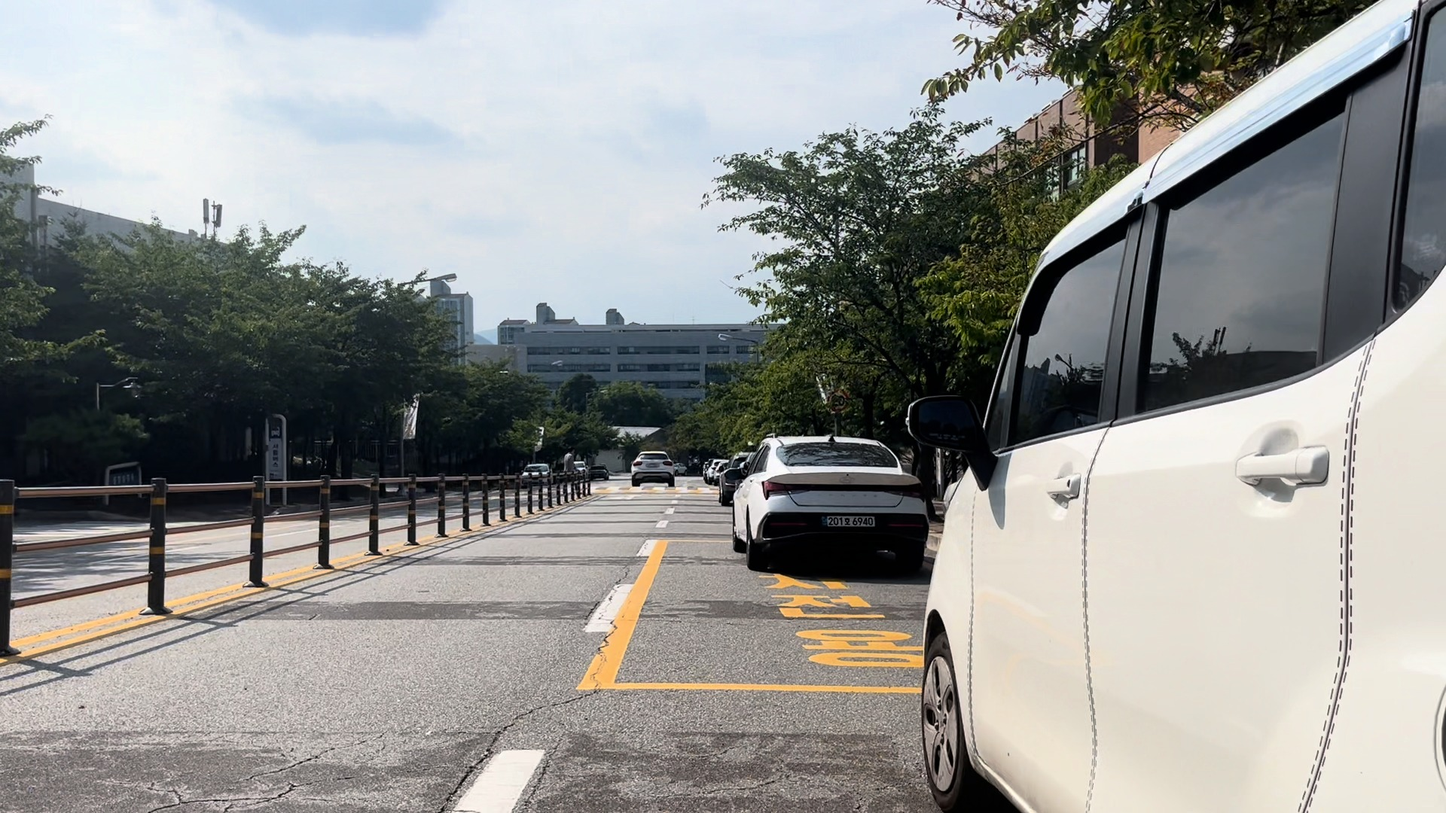door_handle: (1236, 447, 1329, 485), (1046, 474, 1079, 499)
side_mirror: (907, 396, 996, 489)
tail_light: (761, 480, 795, 498)
